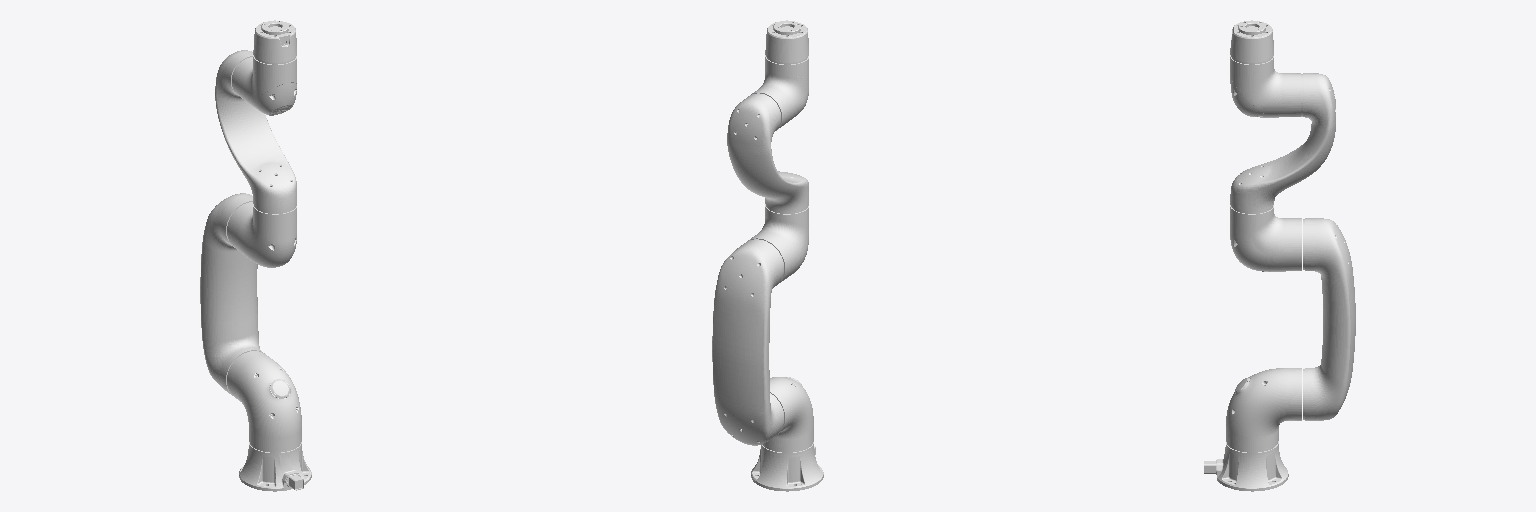
The robot description file, URDF, robot "e0509":
<?xml version="1.0" ?>
<!-- =================================================================================== -->
<!-- |    This document was autogenerated by xacro from /home/theochoi/ros2_ws/src/doosan-robot2-Theo/dsr_description2/xacro/e0509.urdf.xacro | -->
<!-- |    EDITING THIS FILE BY HAND IS NOT RECOMMENDED                                 | -->
<!-- =================================================================================== -->
<robot name="e0509">

  <mujoco>
        <compiler 
        meshdir="assets" 
        balanceinertia="true" 
        discardvisual="false" />
  </mujoco>

  
  <material name="black">
    <color rgba="0.0 0.0 0.0 1.0"/>
  </material>
  <material name="white">
    <color rgba="1.0 1.0 1.0 1.0"/>
  </material>
  <material name="orange">
    <color rgba="1.0 0.4 0.0 1.0"/>
  </material>
  <material name="dr_gray">
    <color rgba="0.490 0.490 0.486 1.0"/>
  </material>
  <material name="dr_white">
    <color rgba="0.941 0.941 0.941 1.0"/>
  </material>
  <material name="dr_blue">
    <color rgba="0 0 0.15 1"/>
  </material>
  <link name="base_link">
    <inertial>
      <mass value="1.803"/>
      <origin xyz="2.7e-05   -0.002651    0.035122"/>
      <inertia ixx="0.010608" ixy="1.7706e-06" ixz="6.6982e-06" iyy="0.0092656" iyz="-4.7833e-05" izz="0.0092125"/>
    </inertial>
    <collision>
      <origin rpy="0 0 0" xyz="0 0 0"/>
      <geometry>
        <mesh filename="E0509_0_0.stl" scale="0.001 0.001 0.001"/>
      </geometry>
      <material name="dr_white"/>
    </collision>
    <visual>
      <origin rpy="0 0 0" xyz="0 0 0"/>
      <geometry>
        <mesh filename="E0509_0_0.stl" scale="0.001 0.001 0.001"/>
      </geometry>
      <material name="dr_white"/>
    </visual>
  </link>
  <!-- joint 1 -->
  <joint name="joint_1" type="revolute">
    <parent link="base_link"/>
    <child link="link_1"/>
    <origin rpy="0 0 0" xyz="0 0 0.2045"/>
    <axis xyz="0 0 1"/>
    <limit effort="194" lower="-6.2832" upper="6.2832" velocity="3.1416"/>
    <dynamics friction="0"/>
  </joint>
  <link name="link_1">
    <inertial>
      <mass value="5.75"/>
      <origin xyz="1e-06    0.049633   -0.049635"/>
      <inertia ixx="0.046214" ixy="1.4982e-05" ixz="1.281e-05" iyy="0.032573" iyz="-0.013997" izz="0.030999"/>
    </inertial>
    <collision>
      <origin rpy="0 0 0" xyz="0 0 0"/>
      <geometry>
        <mesh filename="E0509_1_1.stl" scale="0.001 0.001 0.001"/>
      </geometry>
      <material name="dr_white"/>
    </collision>
    <visual>
      <origin rpy="0 0 0" xyz="0 0 0"/>
      <geometry>
        <mesh filename="E0509_1_1.stl" scale="0.001 0.001 0.001"/>
      </geometry>
      <material name="dr_white"/>
    </visual>
    <collision>
      <origin rpy="0 0 0" xyz="0 0 0"/>
      <geometry>
        <mesh filename="E0509_1_2.stl" scale="0.001 0.001 0.001"/>
      </geometry>
      <material name="dr_white"/>
    </collision>
    <visual>
      <origin rpy="0 0 0" xyz="0 0 0"/>
      <geometry>
        <mesh filename="E0509_1_2.stl" scale="0.001 0.001 0.001"/>
      </geometry>
      <material name="dr_white"/>
    </visual>
    <collision>
      <origin rpy="0 0 0" xyz="0 0 0"/>
      <geometry>
        <mesh filename="E0509_1_3.stl" scale="0.001 0.001 0.001"/>
      </geometry>
      <material name="dr_white"/>
    </collision>
    <visual>
      <origin rpy="0 0 0" xyz="0 0 0"/>
      <geometry>
        <mesh filename="E0509_1_3.stl" scale="0.001 0.001 0.001"/>
      </geometry>
      <material name="dr_white"/>
    </visual>
    <collision>
      <origin rpy="0 0 0" xyz="0 0 0"/>
      <geometry>
        <mesh filename="E0509_1_4.stl" scale="0.001 0.001 0.001"/>
      </geometry>
      <material name="dr_white"/>
    </collision>
    <visual>
      <origin rpy="0 0 0" xyz="0 0 0"/>
      <geometry>
        <mesh filename="E0509_1_4.stl" scale="0.001 0.001 0.001"/>
      </geometry>
      <material name="dr_white"/>
    </visual>
  </link>
  <!-- joint2 -->
  <joint name="joint_2" type="revolute">
    <parent link="link_1"/>
    <child link="link_2"/>
    <origin rpy="0 -1.5708 -1.5708" xyz="0 0 0"/>
    <axis xyz="0 0 1"/>
    <limit effort="194" lower="-6.2832" upper="6.2832" velocity="3.1416"/>
    <dynamics friction="0"/>
  </joint>
  <link name="link_2">
    <inertial>
      <mass value="3.461"/>
      <origin xyz="0.18647 -1.1418e-17     0.17311"/>
      <inertia ixx="0.012039" ixy="7.7771e-06" ixz="3.7559e-06" iyy="0.091203" iyz="3.1825e-06" izz="0.094721"/>
    </inertial>
    <collision>
      <origin rpy="0 0 0" xyz="0 0 0"/>
      <geometry>
        <mesh filename="E0509_2_1.stl" scale="0.001 0.001 0.001"/>
      </geometry>
      <material name="dr_white"/>
    </collision>
    <visual>
      <origin rpy="0 0 0" xyz="0 0 0"/>
      <geometry>
        <mesh filename="E0509_2_1.stl" scale="0.001 0.001 0.001"/>
      </geometry>
      <material name="dr_white"/>
    </visual>
    <collision>
      <origin rpy="0 0 0" xyz="0 0 0"/>
      <geometry>
        <mesh filename="E0509_2_2.stl" scale="0.001 0.001 0.001"/>
      </geometry>
      <material name="dr_white"/>
    </collision>
    <visual>
      <origin rpy="0 0 0" xyz="0 0 0"/>
      <geometry>
        <mesh filename="E0509_2_2.stl" scale="0.001 0.001 0.001"/>
      </geometry>
      <material name="dr_white"/>
    </visual>
  </link>
  <!-- joint3 -->
  <joint name="joint_3" type="revolute">
    <parent link="link_2"/>
    <child link="link_3"/>
    <origin rpy="0 0 1.5708" xyz="0.373 0 0"/>
    <axis xyz="0 0 1"/>
    <limit effort="194" lower="-2.7053" upper="2.7053" velocity="3.1416"/>
    <dynamics friction="0"/>
  </joint>
  <link name="link_3">
    <inertial>
      <mass value="4.582"/>
      <origin xyz="1.2e-05    -0.02919    0.062355"/>
      <inertia ixx="0.032606" ixy="6.548e-06" ixz="-6.9939e-07" iyy="0.024211" iyz="-0.0079929" izz="0.019284"/>
    </inertial>
    <collision>
      <origin rpy="0 0 0" xyz="0 0 0"/>
      <geometry>
        <mesh filename="E0509_3_1.stl" scale="0.001 0.001 0.001"/>
      </geometry>
      <material name="dr_white"/>
    </collision>
    <visual>
      <origin rpy="0 0 0" xyz="0 0 0"/>
      <geometry>
        <mesh filename="E0509_3_1.stl" scale="0.001 0.001 0.001"/>
      </geometry>
      <material name="dr_white"/>
    </visual>
    <collision>
      <origin rpy="0 0 0" xyz="0 0 0"/>
      <geometry>
        <mesh filename="E0509_3_2.stl" scale="0.001 0.001 0.001"/>
      </geometry>
      <material name="dr_white"/>
    </collision>
    <visual>
      <origin rpy="0 0 0" xyz="0 0 0"/>
      <geometry>
        <mesh filename="E0509_3_2.stl" scale="0.001 0.001 0.001"/>
      </geometry>
      <material name="dr_white"/>
    </visual>
  </link>
  <!-- joint4 -->
  <joint name="joint_4" type="revolute">
    <parent link="link_3"/>
    <child link="link_4"/>
    <origin rpy="1.5708 0 0" xyz="0 -0.373 0"/>
    <axis xyz="0 0 1"/>
    <limit effort="66" lower="-6.2832" upper="6.2832" velocity="3.927"/>
    <dynamics friction="0"/>
  </joint>
  <link name="link_4">
    <inertial>
      <mass value="2.207"/>
      <origin xyz="4e-06    0.095573    -0.12813"/>
      <inertia ixx="0.03547" ixy="8.0794e-06" ixz="7.9905e-06" iyy="0.030841" iyz="-0.011996" izz="0.019615"/>
    </inertial>
    <collision>
      <origin rpy="0 0 0" xyz="0 0 0"/>
      <geometry>
        <mesh filename="E0509_4_1.stl" scale="0.001 0.001 0.001"/>
      </geometry>
      <material name="dr_white"/>
    </collision>
    <visual>
      <origin rpy="0 0 0" xyz="0 0 0"/>
      <geometry>
        <mesh filename="E0509_4_1.stl" scale="0.001 0.001 0.001"/>
      </geometry>
      <material name="dr_white"/>
    </visual>
    <collision>
      <origin rpy="0 0 0" xyz="0 0 0"/>
      <geometry>
        <mesh filename="E0509_4_2.stl" scale="0.001 0.001 0.001"/>
      </geometry>
      <material name="dr_white"/>
    </collision>
    <visual>
      <origin rpy="0 0 0" xyz="0 0 0"/>
      <geometry>
        <mesh filename="E0509_4_2.stl" scale="0.001 0.001 0.001"/>
      </geometry>
      <material name="dr_white"/>
    </visual>
  </link>
  <!-- joint5 -->
  <joint name="joint_5" type="revolute">
    <parent link="link_4"/>
    <child link="link_5"/>
    <origin rpy="-1.5708 0 0" xyz="0 0 0"/>
    <axis xyz="0 0 1"/>
    <limit effort="66" lower="-6.2832" upper="6.2832" velocity="3.927"/>
    <dynamics friction="0"/>
  </joint>
  <link name="link_5">
    <inertial>
      <mass value="3.545"/>
      <origin xyz="-3e-06 -0.038009 0.043841"/>
      <inertia ixx="0.023526" ixy="9.9368e-06" ixz="7.6673e-06" iyy="0.018415" iyz="-0.0059939" izz="0.014249"/>
    </inertial>
    <collision>
      <origin rpy="0 0 0" xyz="0 0 0"/>
      <geometry>
        <mesh filename="E0509_5_1.stl" scale="0.001 0.001 0.001"/>
      </geometry>
      <material name="dr_white"/>
    </collision>
    <visual>
      <origin rpy="0 0 0" xyz="0 0 0"/>
      <geometry>
        <mesh filename="E0509_5_1.stl" scale="0.001 0.001 0.001"/>
      </geometry>
      <material name="dr_white"/>
    </visual>
    <collision>
      <origin rpy="0 0 0" xyz="0 0 0"/>
      <geometry>
        <mesh filename="E0509_5_2.stl" scale="0.001 0.001 0.001"/>
      </geometry>
      <material name="dr_white"/>
    </collision>
    <visual>
      <origin rpy="0 0 0" xyz="0 0 0"/>
      <geometry>
        <mesh filename="E0509_5_2.stl" scale="0.001 0.001 0.001"/>
      </geometry>
      <material name="dr_white"/>
    </visual>
  </link>
  <!-- joint6 -->
  <joint name="joint_6" type="revolute">
    <parent link="link_5"/>
    <child link="link_6"/>
    <origin rpy="1.5708 0 0" xyz="0 -0.1725 0"/>
    <axis xyz="0 0 1"/>
    <limit effort="66" lower="-6.2832" upper="6.2832" velocity="3.927"/>
    <dynamics friction="0"/>
  </joint>
  <link name="link_6">
    <inertial>
      <mass value="0.721"/>
      <origin xyz="5.4e-05   -0.000114   -0.032091"/>
      <inertia ixx="0.0048272" ixy="5.6302e-06" ixz="5.5274e-06" iyy="0.0046772" iyz="3.9598e-06" izz="0.0079424"/>
    </inertial>
    <collision>
      <origin rpy="0 0 0" xyz="0 0 0"/>
      <geometry>
        <mesh filename="E0509_6_1.stl" scale="0.001 0.001 0.001"/>
      </geometry>
      <material name="dr_white"/>
    </collision>
    <visual>
      <origin rpy="0 0 0" xyz="0 0 0"/>
      <geometry>
        <mesh filename="E0509_6_1.stl" scale="0.001 0.001 0.001"/>
      </geometry>
      <material name="dr_white"/>
    </visual>
  </link>
  <!-- Transmission 1 -->
  <transmission name="tran1">
    <type>transmission_interface/SimpleTransmission</type>
    <joint name="joint1">
      <hardwareInterface>hardware_interface/PositionJointInterface</hardwareInterface>
    </joint>
    <actuator name="motor1">
      <hardwareInterface>hardware_interface/PositionJointInterface</hardwareInterface>
      <mechanicalReduction>1</mechanicalReduction>
    </actuator>
  </transmission>
  <!-- Transmission 2 -->
  <transmission name="tran2">
    <type>transmission_interface/SimpleTransmission</type>
    <joint name="joint2">
      <hardwareInterface>hardware_interface/PositionJointInterface</hardwareInterface>
    </joint>
    <actuator name="motor2">
      <hardwareInterface>hardware_interface/PositionJointInterface</hardwareInterface>
      <mechanicalReduction>1</mechanicalReduction>
    </actuator>
  </transmission>
  <!-- Transmission 3 -->
  <transmission name="tran3">
    <type>transmission_interface/SimpleTransmission</type>
    <joint name="joint3">
      <hardwareInterface>hardware_interface/PositionJointInterface</hardwareInterface>
    </joint>
    <actuator name="motor3">
      <hardwareInterface>hardware_interface/PositionJointInterface</hardwareInterface>
      <mechanicalReduction>1</mechanicalReduction>
    </actuator>
  </transmission>
  <!-- Transmission 4 -->
  <transmission name="tran4">
    <type>transmission_interface/SimpleTransmission</type>
    <joint name="joint4">
      <hardwareInterface>hardware_interface/PositionJointInterface</hardwareInterface>
    </joint>
    <actuator name="motor4">
      <hardwareInterface>hardware_interface/PositionJointInterface</hardwareInterface>
      <mechanicalReduction>1</mechanicalReduction>
    </actuator>
  </transmission>
  <!-- Transmission 5 -->
  <transmission name="tran5">
    <type>transmission_interface/SimpleTransmission</type>
    <joint name="joint5">
      <hardwareInterface>hardware_interface/PositionJointInterface</hardwareInterface>
    </joint>
    <actuator name="motor5">
      <hardwareInterface>hardware_interface/PositionJointInterface</hardwareInterface>
      <mechanicalReduction>1</mechanicalReduction>
    </actuator>
  </transmission>
  <!-- Transmission 6 -->
  <transmission name="tran6">
    <type>transmission_interface/SimpleTransmission</type>
    <joint name="joint6">
      <hardwareInterface>hardware_interface/PositionJointInterface</hardwareInterface>
    </joint>
    <actuator name="motor6">
      <hardwareInterface>hardware_interface/PositionJointInterface</hardwareInterface>
      <mechanicalReduction>1</mechanicalReduction>
    </actuator>
  </transmission>
  <!-- ros_control plugin -->
  <gazebo>
    <plugin filename="ign_ros2_control-system" name="ign_ros2_control::IgnitionROS2ControlPlugin">
      <ros>
        <namespace></namespace>
      </ros>
      <parameters>/home/theochoi/ros2_ws/install/dsr_controller2/share/dsr_controller2/config/dsr_controller2_gz.yaml</parameters>
    </plugin>
  </gazebo>
  <!-- Base -->
  <gazebo reference="base_0">
    <kp>100000.0</kp>
    <kd>100.0</kd>
    <mu1>30.0</mu1>
    <mu2>30.0</mu2>
    <maxVel>1.0</maxVel>
    <minDepth>0.001</minDepth>
  </gazebo>
  <!-- Link1 -->
  <gazebo reference="link1">
    <kp>100000.0</kp>
    <kd>100.0</kd>
    <mu1>30.0</mu1>
    <mu2>30.0</mu2>
    <maxVel>1.0</maxVel>
    <minDepth>0.001</minDepth>
  </gazebo>
  <!-- Link2 -->
  <gazebo reference="link2">
    <kp>100000.0</kp>
    <kd>100.0</kd>
    <mu1>30.0</mu1>
    <mu2>30.0</mu2>
    <maxVel>1.0</maxVel>
    <minDepth>0.001</minDepth>
  </gazebo>
  <!-- Link3 -->
  <gazebo reference="link3">
    <kp>100000.0</kp>
    <kd>100.0</kd>
    <mu1>30.0</mu1>
    <mu2>30.0</mu2>
    <maxVel>1.0</maxVel>
    <minDepth>0.001</minDepth>
  </gazebo>
  <!-- Link4 -->
  <gazebo reference="link4">
    <kp>100000.0</kp>
    <kd>100.0</kd>
    <mu1>30.0</mu1>
    <mu2>30.0</mu2>
    <maxVel>1.0</maxVel>
    <minDepth>0.001</minDepth>
  </gazebo>
  <!-- Link5 -->
  <gazebo reference="link5">
    <kp>100000.0</kp>
    <kd>100.0</kd>
    <mu1>30.0</mu1>
    <mu2>30.0</mu2>
    <maxVel>1.0</maxVel>
    <minDepth>0.001</minDepth>
  </gazebo>
  <!-- Link6 -->
  <gazebo reference="link6">
    <kp>100000.0</kp>
    <kd>100.0</kd>
    <mu1>30.0</mu1>
    <mu2>30.0</mu2>
    <maxVel>1.0</maxVel>
    <minDepth>0.001</minDepth>
  </gazebo>
  <link name="world"/>
  <!-- World fixed joint-->
  <joint name="world_fixed" type="fixed">
    <origin rpy="0 0 0" xyz="0 0 0"/>
    <parent link="world"/>
    <child link="base_link"/>
  </joint>
  <ros2_control name="e0509" type="system">
    <hardware>
      <plugin>dsr_hardware2/DRHWInterface</plugin>
      <param name="host"></param>
      <param name="rt_host"></param>
      <param name="port"></param>
      <param name="mode"></param>
      <param name="model"></param>
    </hardware>
    <joint name="joint_1">
      <command_interface name="position">
        <param name="min">{-2*pi}</param>
        <param name="max">{2*pi}</param>
      </command_interface>
      <command_interface name="velocity">
        <param name="min">-3.15</param>
        <param name="max">3.15</param>
      </command_interface>
      <state_interface name="position">
        <param name="initial_value">0.0</param>
      </state_interface>
      <state_interface name="velocity"/>
    </joint>
    <joint name="joint_2">
      <command_interface name="position">
        <param name="min">{-2*pi}</param>
        <param name="max">{2*pi}</param>
      </command_interface>
      <command_interface name="velocity">
        <param name="min">-3.15</param>
        <param name="max">3.15</param>
      </command_interface>
      <state_interface name="position">
        <param name="initial_value">0.0</param>
      </state_interface>
      <state_interface name="velocity"/>
    </joint>
    <joint name="joint_3">
      <command_interface name="position">
        <param name="min">{-pi}</param>
        <param name="max">{pi}</param>
      </command_interface>
      <command_interface name="velocity">
        <param name="min">-3.15</param>
        <param name="max">3.15</param>
      </command_interface>
      <state_interface name="position">
        <param name="initial_value">0.0</param>
      </state_interface>
      <state_interface name="velocity"/>
    </joint>
    <joint name="joint_4">
      <command_interface name="position">
        <param name="min">{-2*pi}</param>
        <param name="max">{2*pi}</param>
      </command_interface>
      <command_interface name="velocity">
        <param name="min">-3.2</param>
        <param name="max">3.2</param>
      </command_interface>
      <state_interface name="position">
        <param name="initial_value">0.0</param>
      </state_interface>
      <state_interface name="velocity"/>
    </joint>
    <joint name="joint_5">
      <command_interface name="position">
        <param name="min">{-2*pi}</param>
        <param name="max">{2*pi}</param>
      </command_interface>
      <command_interface name="velocity">
        <param name="min">-3.2</param>
        <param name="max">3.2</param>
      </command_interface>
      <state_interface name="position">
        <param name="initial_value">0.0</param>
      </state_interface>
      <state_interface name="velocity"/>
    </joint>
    <joint name="joint_6">
      <command_interface name="position">
        <param name="min">{-2*pi}</param>
        <param name="max">{2*pi}</param>
      </command_interface>
      <command_interface name="velocity">
        <param name="min">-3.2</param>
        <param name="max">3.2</param>
      </command_interface>
      <state_interface name="position">
        <param name="initial_value">0.0</param>
      </state_interface>
      <state_interface name="velocity"/>
    </joint>
  </ros2_control>
</robot>

--- Render facts (derived) ---
Views: 3 orthographic renders of the robot side by side, from view 1: azimuth 30°, elevation 25°; view 2: azimuth 150°, elevation 25°; view 3: azimuth 270°, elevation 25°.
Robot: e0509 — 8 links, 7 joints (6 revolute, 1 fixed); root link world; default pose: all joints at 0.
Visible links, largest first — view 1: link_2, link_4, link_1, link_3, link_5, base_link, link_6; view 2: link_2, link_4, link_1, base_link, link_3, link_5, link_6; view 3: link_2, link_4, link_1, link_3, link_5, base_link, link_6.
Link boxes in pixels (x1=…): link_2: x1=200, y1=193, x2=264, y2=395; link_4: x1=215, y1=50, x2=296, y2=211; link_1: x1=227, y1=351, x2=301, y2=452; link_3: x1=227, y1=202, x2=296, y2=267; link_5: x1=232, y1=55, x2=296, y2=115; base_link: x1=239, y1=442, x2=311, y2=491; link_6: x1=253, y1=20, x2=296, y2=62; link_2: x1=712, y1=239, x2=783, y2=445; link_4: x1=727, y1=93, x2=808, y2=211; link_1: x1=762, y1=377, x2=813, y2=452; base_link: x1=751, y1=442, x2=823, y2=491; link_3: x1=748, y1=204, x2=808, y2=282; link_5: x1=751, y1=55, x2=808, y2=130; link_6: x1=765, y1=20, x2=808, y2=62; link_2: x1=1303, y1=218, x2=1355, y2=420; link_4: x1=1230, y1=73, x2=1335, y2=211; link_1: x1=1226, y1=368, x2=1304, y2=452; link_3: x1=1230, y1=205, x2=1301, y2=271; link_5: x1=1230, y1=55, x2=1300, y2=117; base_link: x1=1204, y1=441, x2=1288, y2=491; link_6: x1=1230, y1=20, x2=1273, y2=62.
Size in the robot's own frame: 0.164 by 0.3435 by 1.12 metres.
Meshes: 14 distinct files referenced, 14 mesh visuals loaded (14 binary STL).
